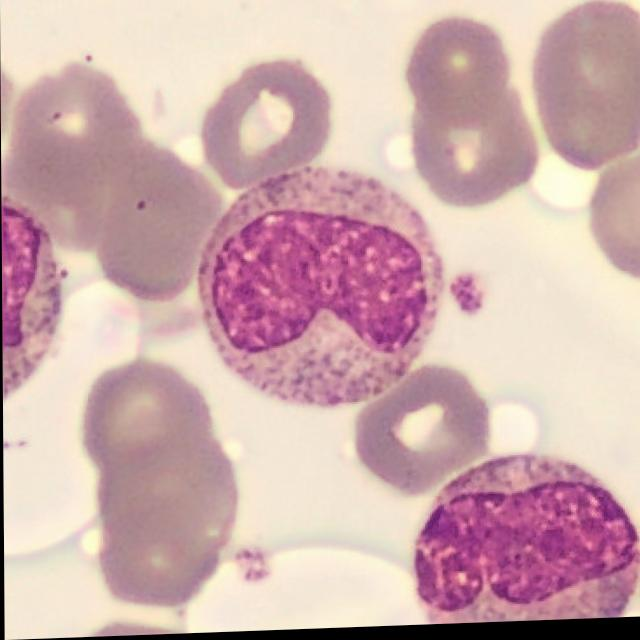Metamielocito: (197, 168, 439, 413), (410, 457, 640, 628)
